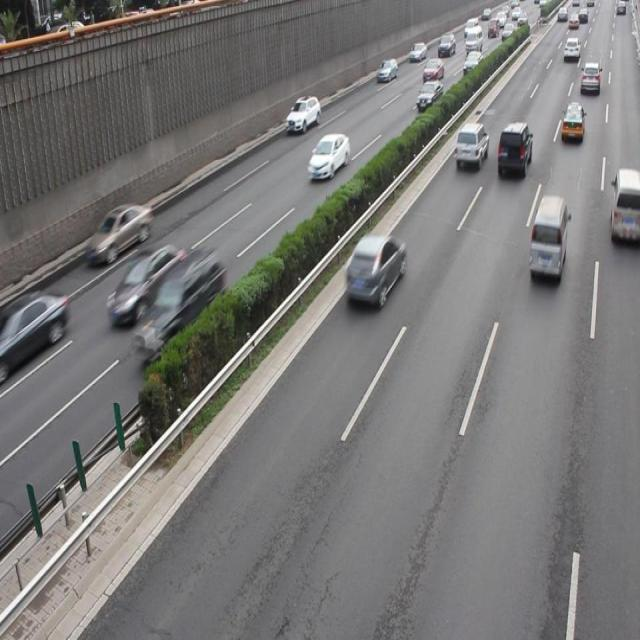car: (132, 246, 225, 362), (106, 242, 186, 326), (1, 288, 68, 370), (343, 230, 405, 306), (87, 202, 152, 264), (308, 131, 349, 181), (495, 122, 531, 178), (453, 121, 488, 169), (286, 95, 320, 133), (560, 103, 584, 145)
truck: (527, 195, 566, 276), (610, 168, 640, 242)
